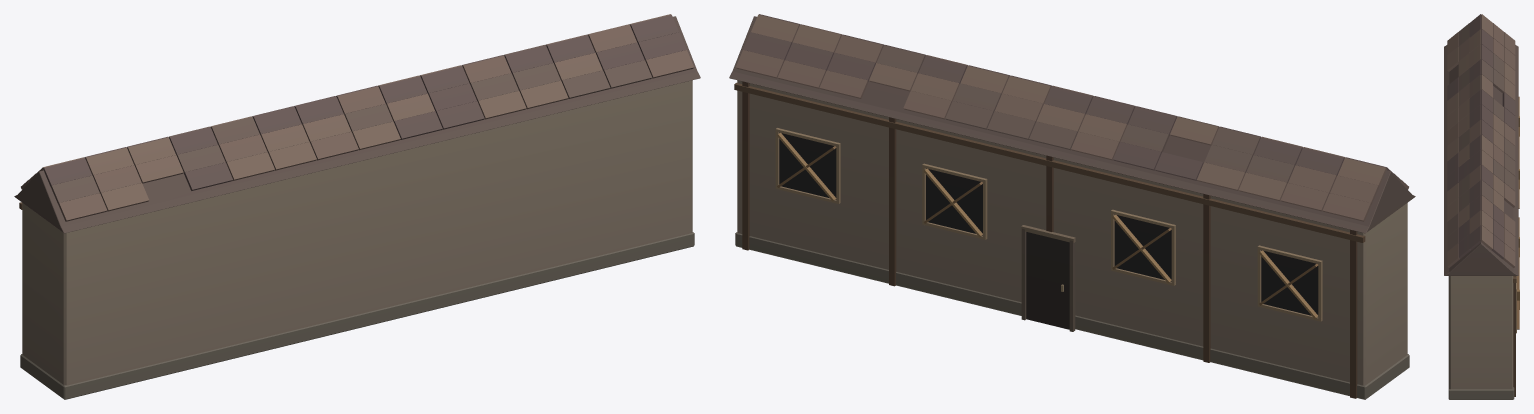
Rendered from AV_HouseLongA.glb.
The picture shows the model from 3 angles, left to right: view 1: azimuth 30°, elevation 25°; view 2: azimuth 150°, elevation 25°; view 3: azimuth 270°, elevation 25°; orthographic projection. The views are drawn at different scales.
Visible parts, largest first — view 1: AV_HouseLongA__Body; view 2: AV_HouseLongA__Body; view 3: AV_HouseLongA__Body.
Boxes of the visible parts, x1,y1,x2,y2 form: AV_HouseLongA__Body: [14, 14, 700, 399]; AV_HouseLongA__Body: [729, 14, 1415, 399]; AV_HouseLongA__Body: [1444, 14, 1519, 399].
Bounding box in the file's own units: 60.8 × 19.75 × 8.48.
